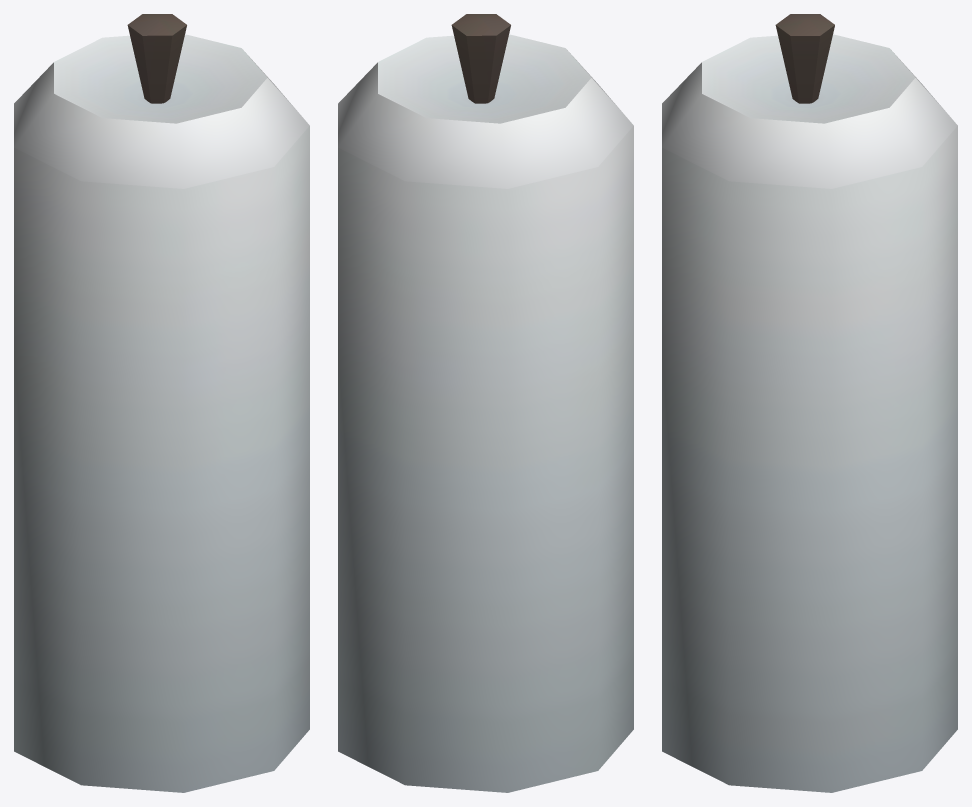
Rendered from ljus.glb.
3 renders of one model, left to right at view 1: azimuth 30°, elevation 25°; view 2: azimuth 150°, elevation 25°; view 3: azimuth 270°, elevation 25°, orthographic.
Parts seen in each view (by area): view 1: candle; view 2: candle; view 3: candle.
Part boxes in pixels (box(x1,y1,x2,y2)): candle: box(14, 14, 309, 792); candle: box(338, 14, 633, 792); candle: box(662, 14, 957, 792).
Bounding box in the file's own units: 0.3009 × 0.7857 × 0.2964.
1 material, 1 textured.
